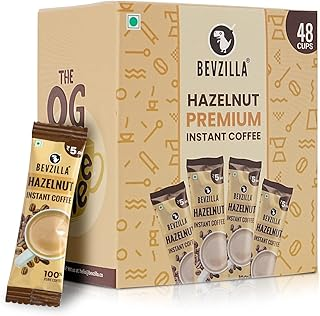Coffee: (3, 3, 320, 308)
